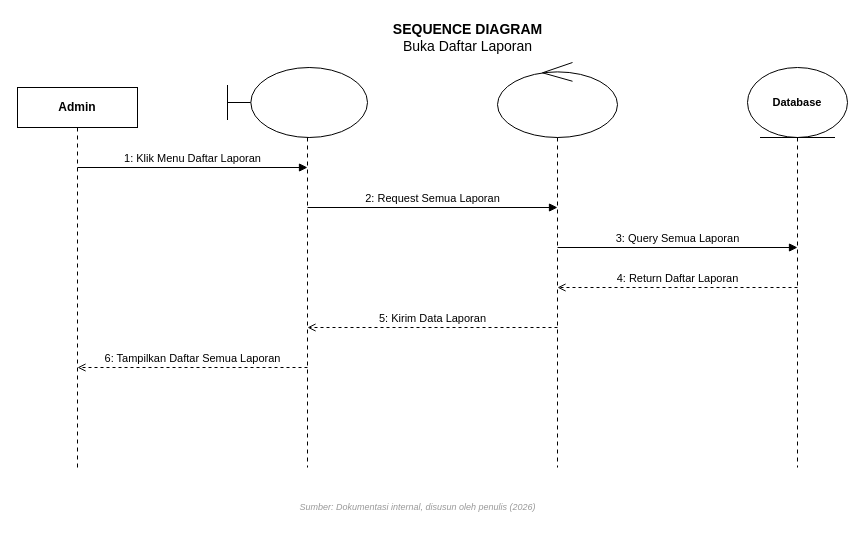
The diagram is 865 pixels wide and 534 high, and some of its shapes have lost their labels. The shapes that lost their labels are listed below. From the top down, each one's box as (x1, y1, x2, y2) in pixels, then its label:
(226, 66, 368, 138): Halaman Daftar Laporan
(496, 62, 618, 138): ReportController
